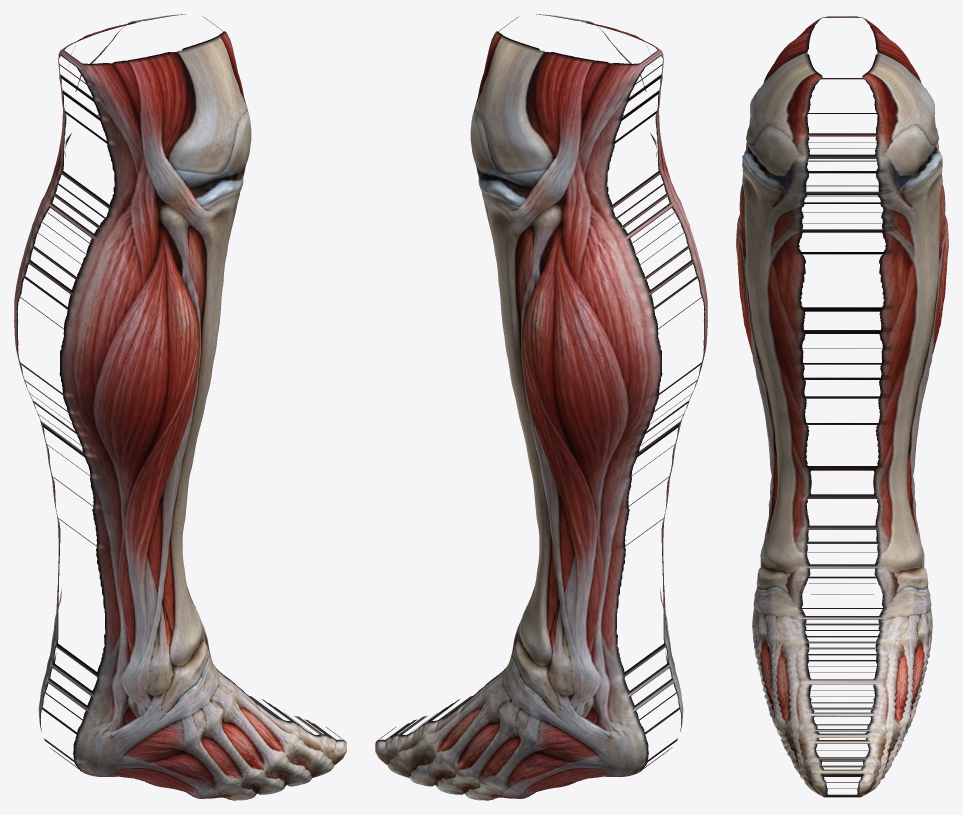
The model's file is image-leg.glb.
3 renders of one model, left to right at view 1: azimuth 30°, elevation 25°; view 2: azimuth 150°, elevation 25°; view 3: azimuth 270°, elevation 25°, orthographic. The views are drawn at different scales.
Parts seen in each view (by area): view 1: leg; view 2: leg; view 3: leg.
Boxes of the visible parts, x1,y1,x2,y2 form: leg: [14, 14, 346, 800]; leg: [375, 14, 707, 800]; leg: [736, 16, 948, 797].
Bounding box in the file's own units: 0.8144 × 2 × 0.564.
1 material, 1 textured.
